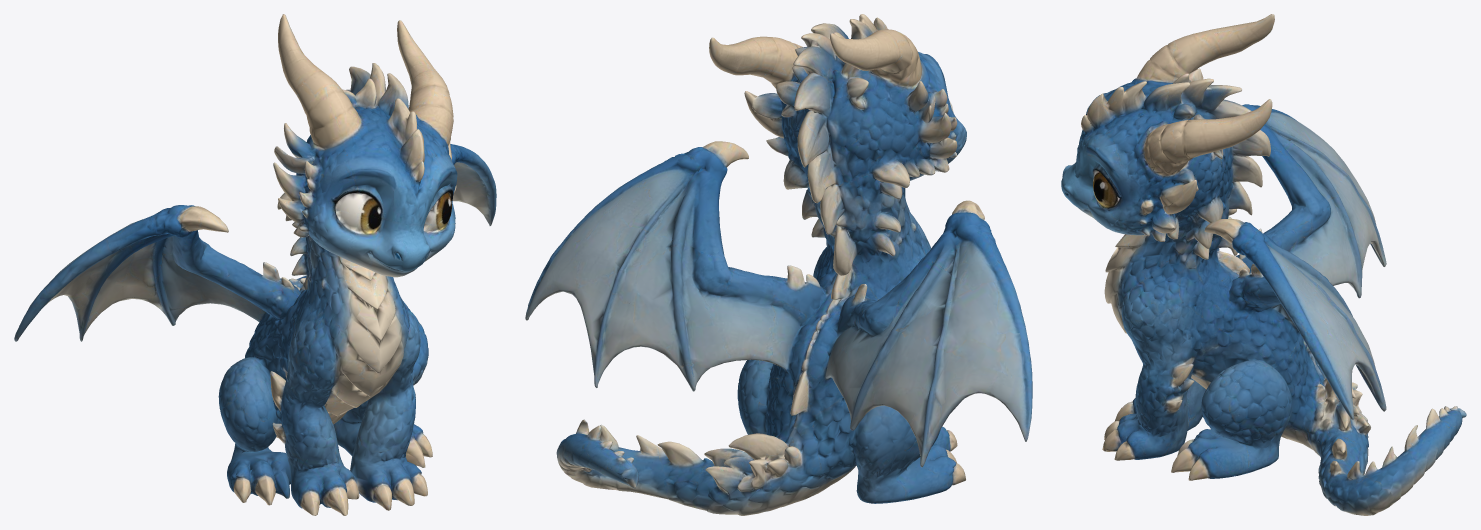
Rendered from comparison-meshy-multi.glb.
3 renders of one model, left to right at view 1: azimuth 30°, elevation 25°; view 2: azimuth 150°, elevation 25°; view 3: azimuth 270°, elevation 25°, orthographic. The views are drawn at different scales.
Size of the model in its own units: 1.9 by 1.66 by 1.46.
1 material, 1 textured.
